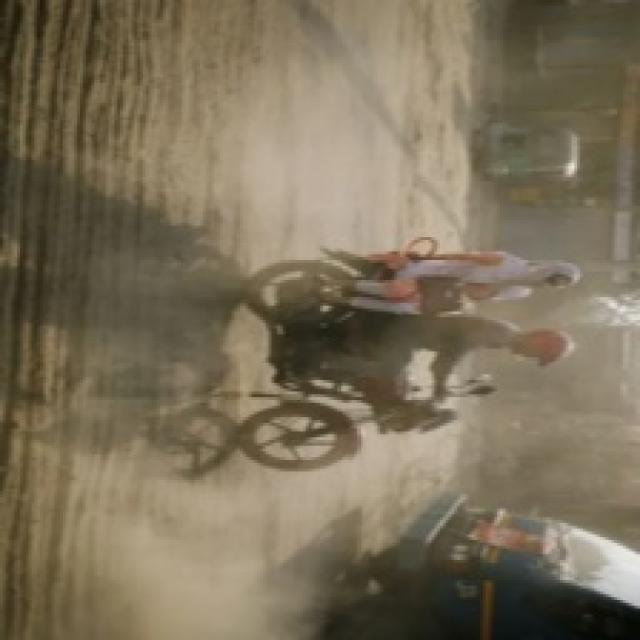bike: (232, 242, 468, 458)
